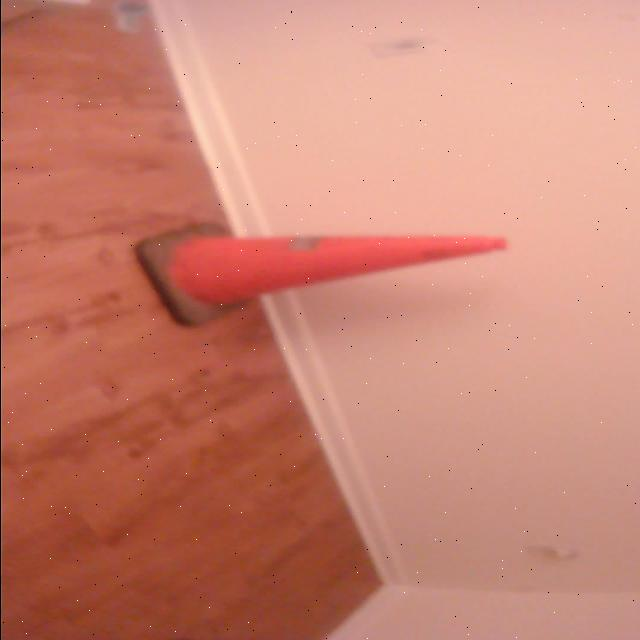traffic cone: (130, 219, 515, 333)
